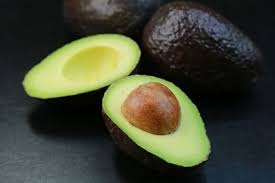avocado: (102, 75, 212, 169), (22, 33, 142, 100)
